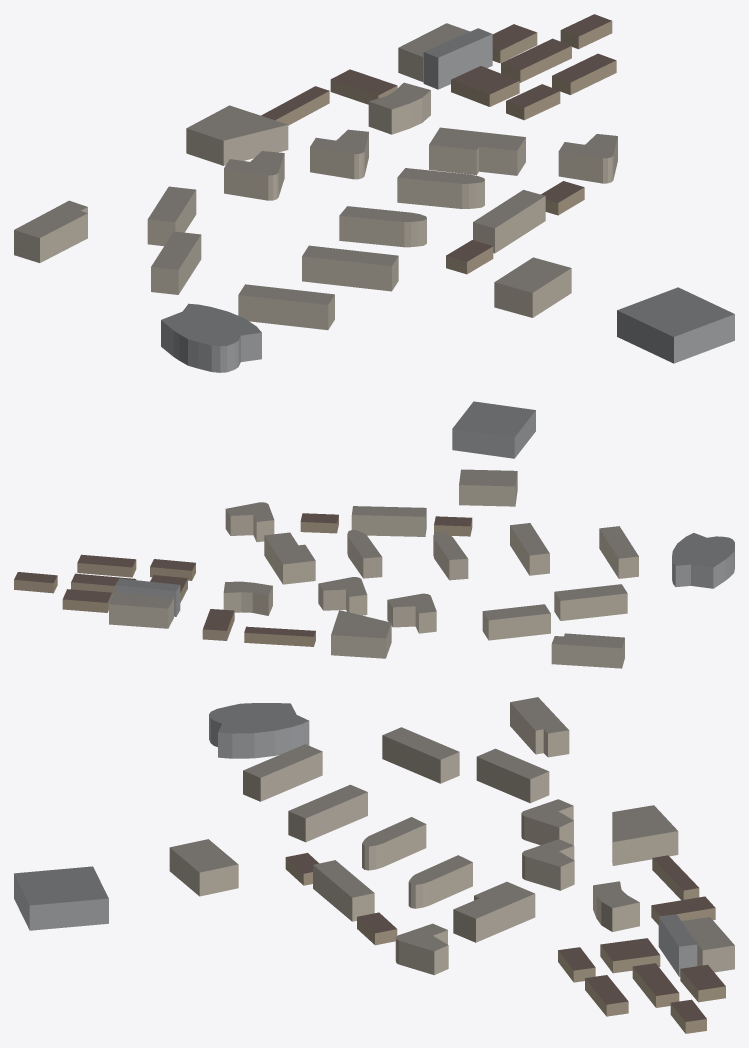
Rendered from tile_5_1.glb.
3 renders of one model, top to bottom at view 1: azimuth 30°, elevation 25°; view 2: azimuth 150°, elevation 25°; view 3: azimuth 270°, elevation 25°, orthographic. The views are drawn at different scales.
Visible parts, largest first — view 1: HP-w441870720, HP-w350242040, HP-w1544735762, HP-w1287060497, HP-w859488701, HP-w859488702, HP-w1544735759, HP-w1157348020, HP-w1287060495, HP-w1287060496, HP-w1544735755, HP-w1287060501 (+17 smaller); view 2: HP-w441870720, HP-w350242040, HP-w1544735762, HP-w1157348020, HP-w859488704, HP-w1287060501, HP-w1544735759, HP-w1544735751, HP-w859488703, HP-w1287060497, HP-w1287060492, HP-w1287060493 (+16 smaller); view 3: HP-w441870720, HP-w350242040, HP-w1287060497, HP-w1544735762, HP-w1544735759, HP-w859488701, HP-w859488702, HP-w859488704, HP-w859488703, HP-w1157348020, HP-w1287060501, HP-w1287060495 (+17 smaller).
Boxes of the visible parts, x1=… form: HP-w441870720: x1=617, y1=287, x2=734, y2=363; HP-w350242040: x1=161, y1=303, x2=261, y2=372; HP-w1544735762: x1=186, y1=105, x2=288, y2=165; HP-w1287060497: x1=429, y1=127, x2=525, y2=175; HP-w859488701: x1=302, y1=245, x2=398, y2=291; HP-w859488702: x1=238, y1=284, x2=334, y2=330; HP-w1544735759: x1=494, y1=257, x2=571, y2=317; HP-w1157348020: x1=14, y1=200, x2=87, y2=262; HP-w1287060495: x1=339, y1=206, x2=426, y2=247; HP-w1287060496: x1=397, y1=168, x2=484, y2=208; HP-w1544735755: x1=423, y1=28, x2=492, y2=89; HP-w1287060501: x1=473, y1=190, x2=545, y2=253; HP-w441870720: x1=452, y1=401, x2=535, y2=458; HP-w350242040: x1=672, y1=533, x2=734, y2=588; HP-w1544735762: x1=331, y1=610, x2=391, y2=658; HP-w1157348020: x1=551, y1=633, x2=624, y2=668; HP-w859488704: x1=554, y1=584, x2=627, y2=620; HP-w1287060501: x1=351, y1=506, x2=426, y2=536; HP-w1544735759: x1=459, y1=469, x2=517, y2=506; HP-w1544735751: x1=109, y1=592, x2=173, y2=628; HP-w859488703: x1=482, y1=604, x2=550, y2=640; HP-w1287060497: x1=264, y1=532, x2=315, y2=584; HP-w1287060492: x1=387, y1=593, x2=436, y2=633; HP-w1287060493: x1=318, y1=577, x2=367, y2=615; HP-w441870720: x1=14, y1=866, x2=108, y2=930; HP-w350242040: x1=209, y1=703, x2=309, y2=758; HP-w1287060497: x1=453, y1=881, x2=535, y2=942; HP-w1544735762: x1=612, y1=805, x2=678, y2=865; HP-w1544735759: x1=169, y1=839, x2=238, y2=896; HP-w859488701: x1=288, y1=784, x2=367, y2=842; HP-w859488702: x1=243, y1=744, x2=322, y2=801; HP-w859488704: x1=382, y1=727, x2=459, y2=783; HP-w859488703: x1=476, y1=748, x2=549, y2=803; HP-w1157348020: x1=510, y1=697, x2=569, y2=757; HP-w1287060501: x1=313, y1=860, x2=374, y2=921; HP-w1287060495: x1=362, y1=817, x2=426, y2=870.
Size of the model in its own units: 505 by 22.8 by 492.
